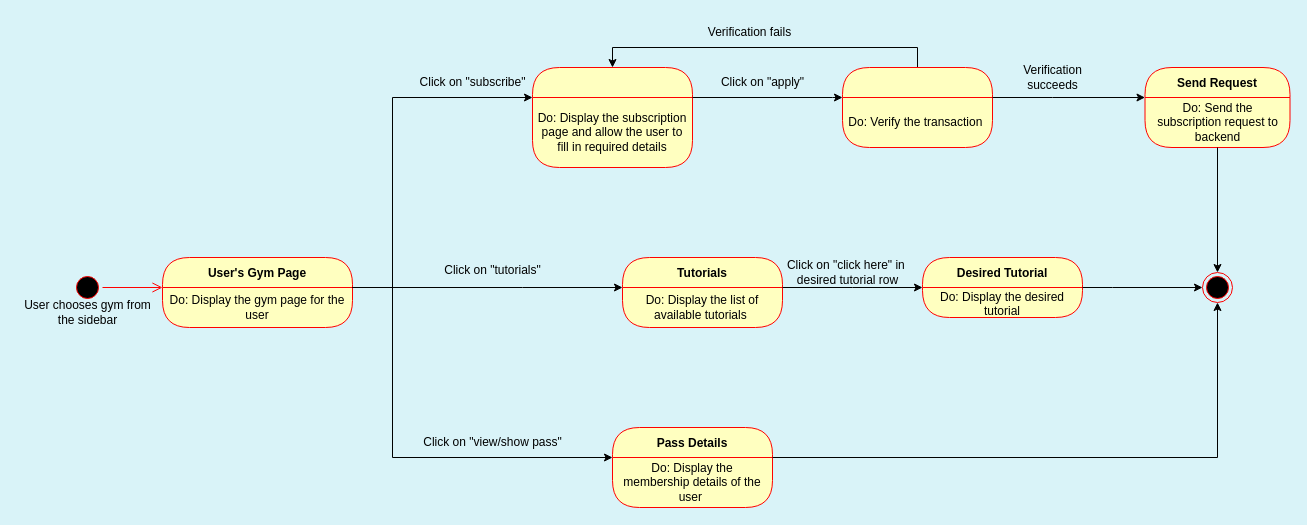
Some shapes in this 1307 by 525 pixel diagram are drawn without their labels. The shapes that lost their labels are listed below. From the top down, each one's box as (x1, y1, x2, y2) in pixels, then its label:
(532, 66, 692, 168): Applying for Subscription
(842, 66, 992, 148): Payment Verification
